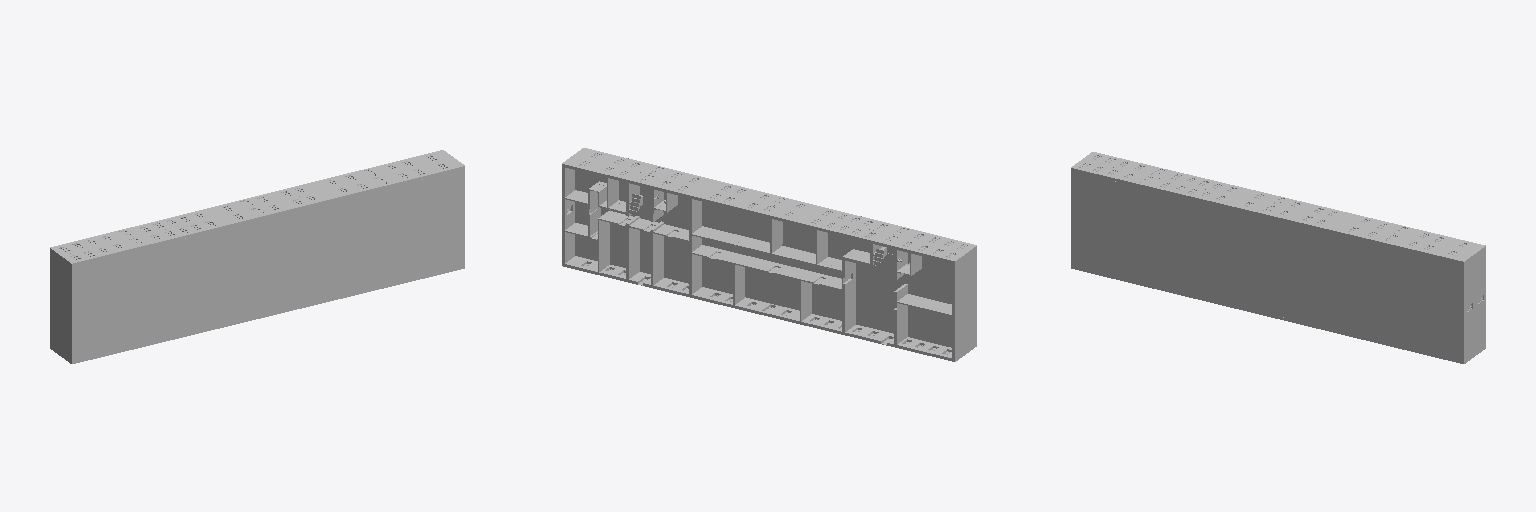
File: modeOBJ1-2.obj
The picture shows the model from 3 angles: view 1: azimuth 30°, elevation 25°; view 2: azimuth 150°, elevation 25°; view 3: azimuth 330°, elevation 25°; orthographic projection.
Parts seen in each view (by area): view 1: mesh_18, mesh_2, mesh_1, mesh_5; view 2: mesh_2, mesh_18, mesh_1, mesh_5, mesh_12; view 3: mesh_18, mesh_2, mesh_1, mesh_5.
Boxes of the visible parts, x1,y1,x2,y2 form: mesh_18: [61, 158, 462, 360]; mesh_2: [50, 150, 464, 363]; mesh_1: [72, 166, 464, 363]; mesh_5: [59, 156, 446, 259]; mesh_2: [562, 148, 976, 361]; mesh_18: [573, 155, 962, 347]; mesh_1: [562, 158, 954, 361]; mesh_5: [567, 153, 966, 354]; mesh_12: [588, 185, 909, 345]; mesh_18: [1073, 160, 1474, 360]; mesh_2: [1073, 152, 1485, 360]; mesh_1: [1071, 168, 1463, 363]; mesh_5: [1080, 155, 1482, 311].
Size of the model in its own units: 62.42 by 15.57 by 6.93.